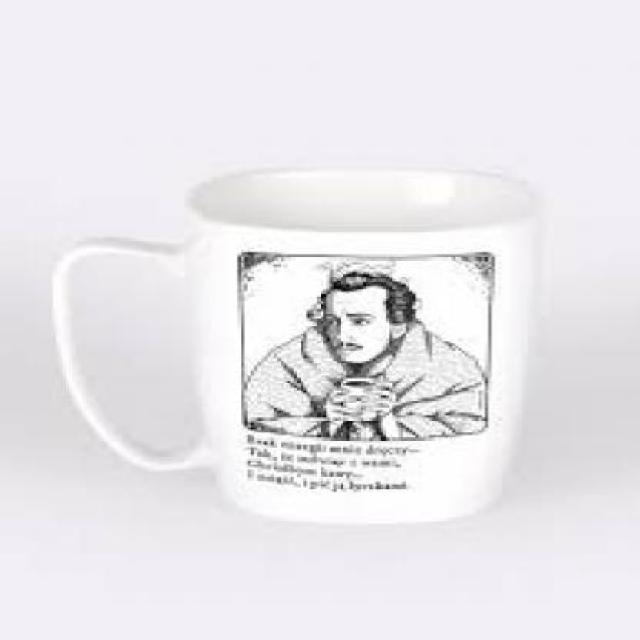cup: (40, 155, 562, 538)
